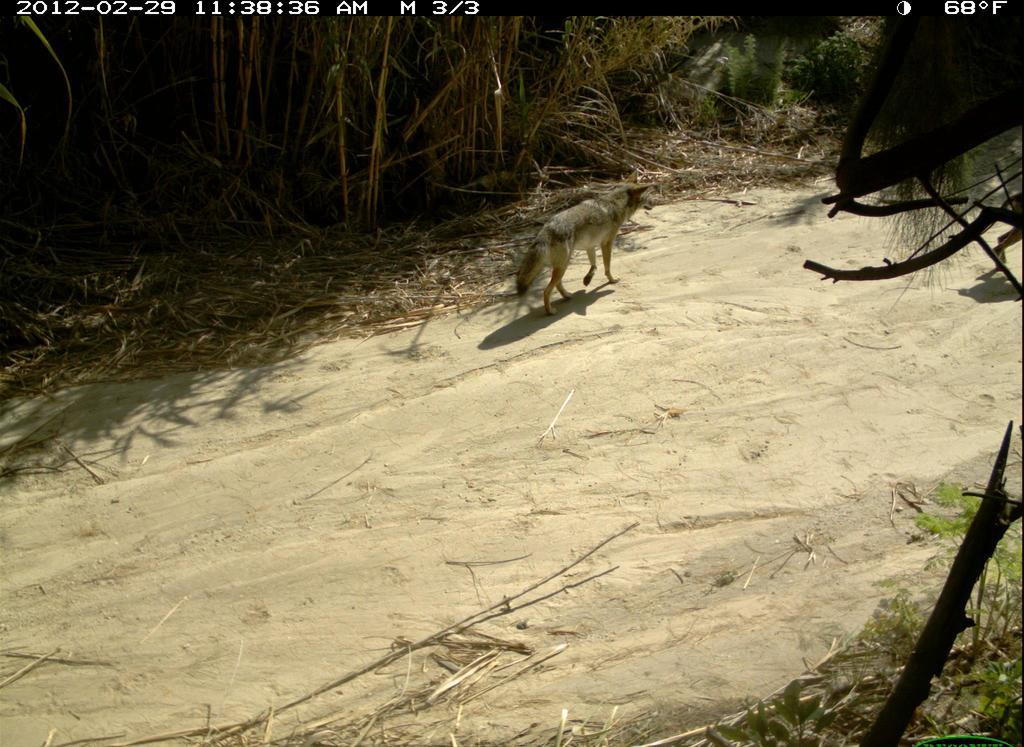coyote: (492, 173, 660, 329)
